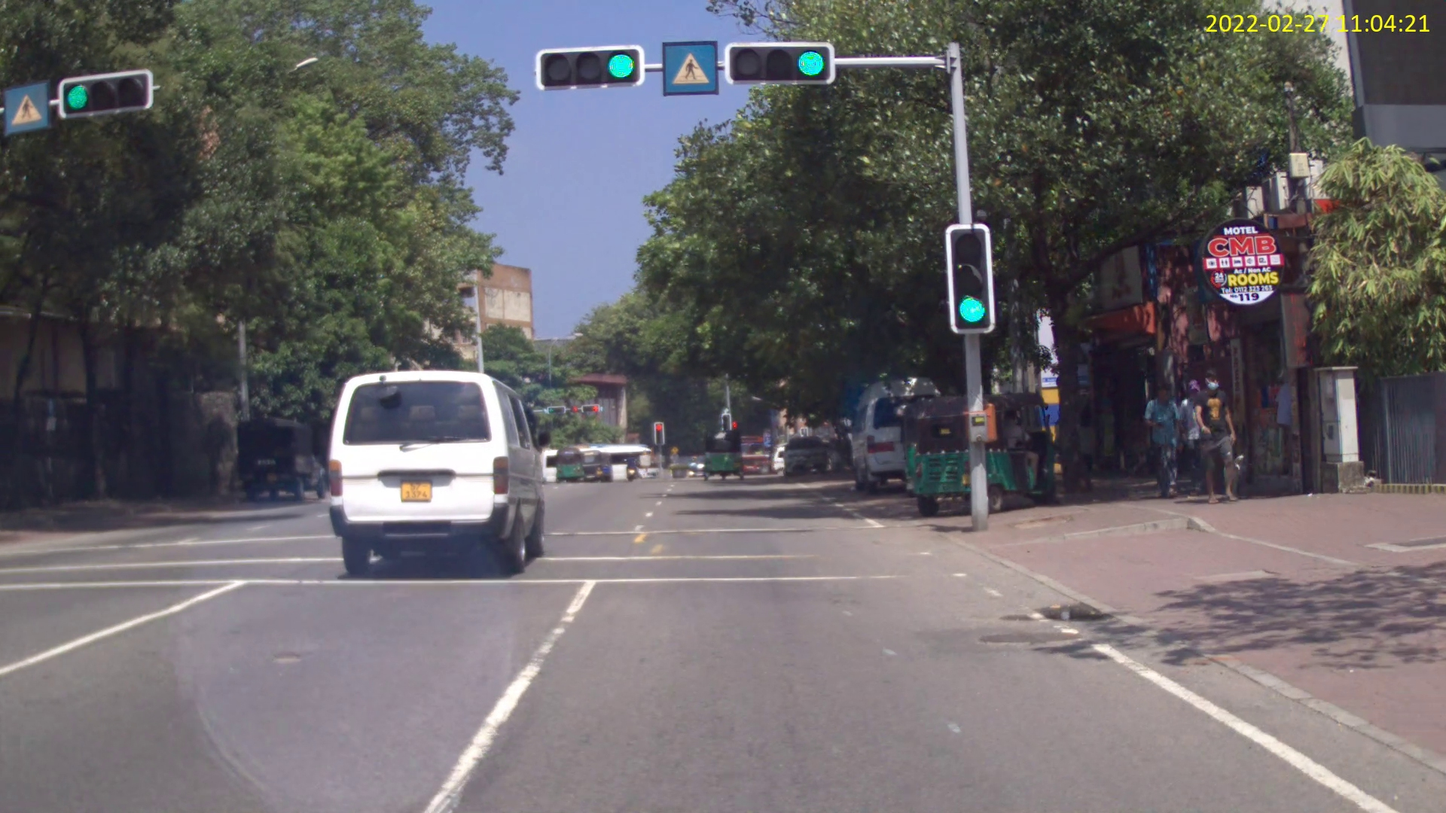Count-down: (572, 406, 578, 413)
Green: (944, 224, 996, 333), (535, 44, 645, 91), (725, 41, 835, 84), (58, 69, 153, 118)
Green-left: (548, 407, 565, 413)
Red: (654, 422, 664, 443), (582, 404, 599, 410)
